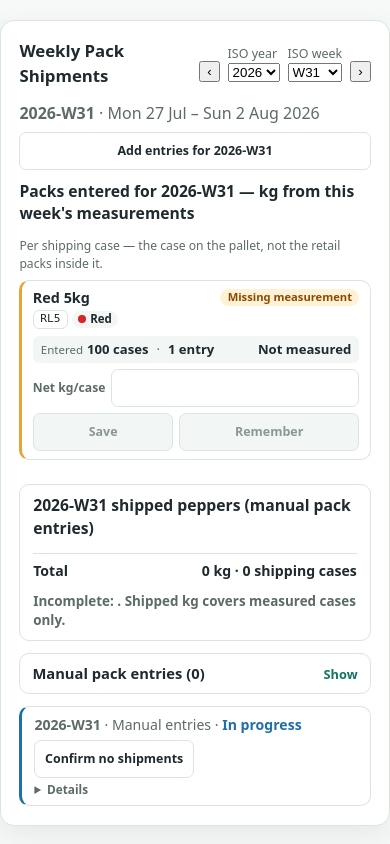
Test: pack measurement save states › a failed Remember keeps the inputs and shows the error inline, with no success message
Expected: the heading "Red 5kg" is shown, [33, 288, 90, 307]
Type "5.1" into the number field named "Average net pepper kg per shipping case for Red 5kg" at (235, 388), box [111, 369, 359, 407]
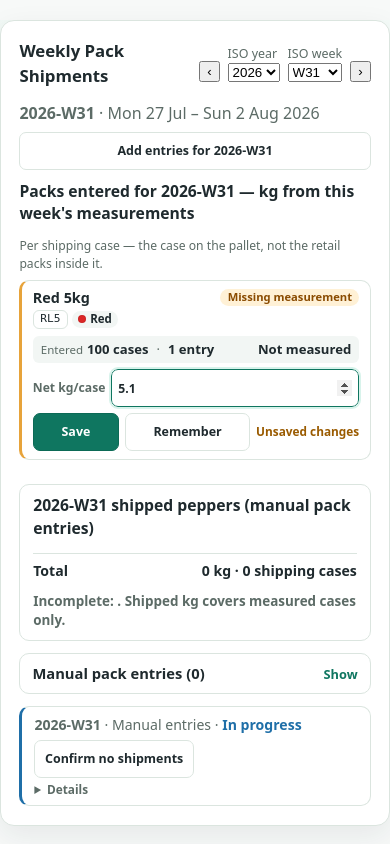
Click the button with aria-label "Remember for future weeks" at (188, 432), box [125, 413, 250, 451]
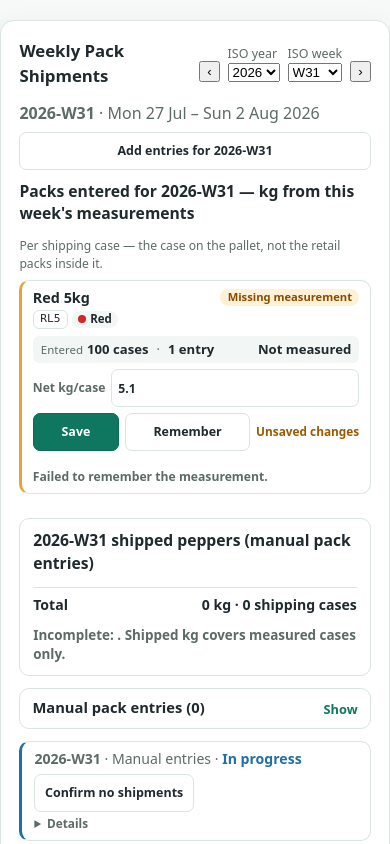
Expected: the message "Failed to remember the measurement." is shown, [33, 468, 268, 485]
